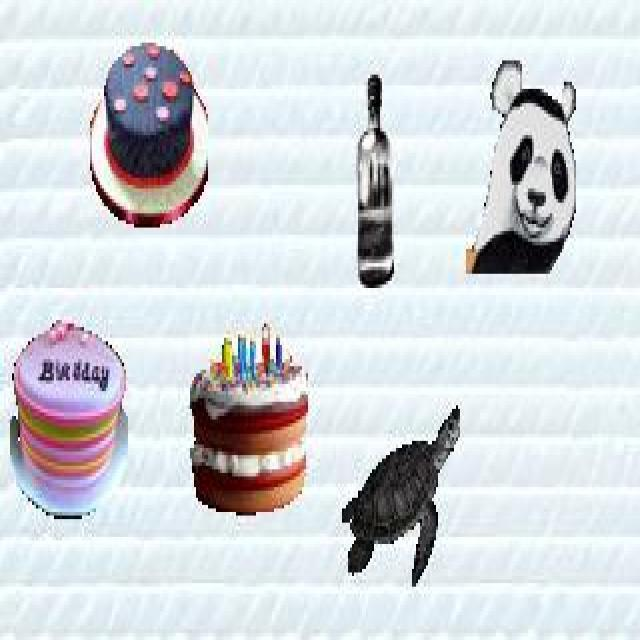Other Objects: (356, 72, 396, 289)
